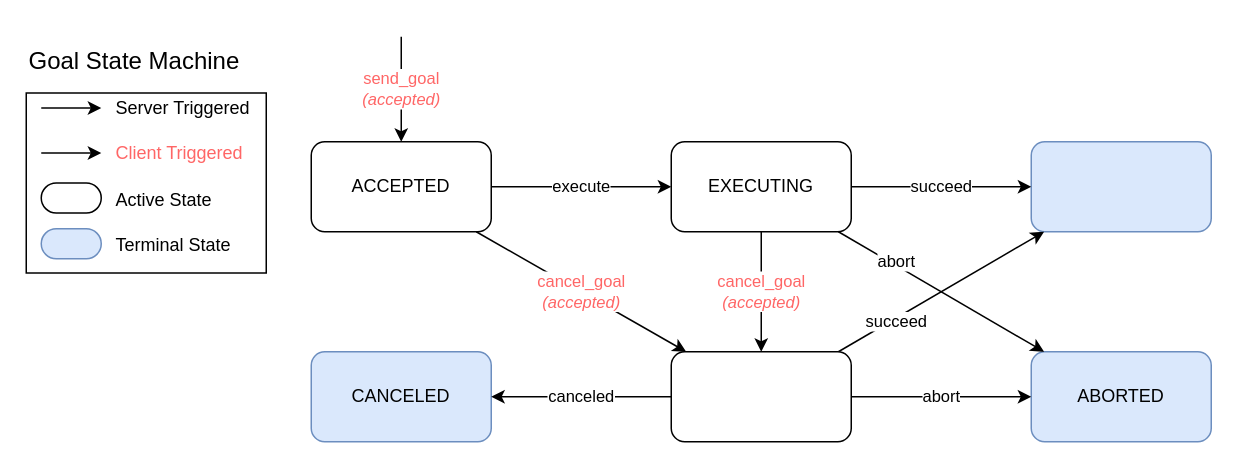
Some shapes in this 1238 by 468 pixel diagram are drawn without their labels. The shapes that lost their labels are listed below. From the top down, each one's centre as x and y in pixels, then its label:
the point at 1120,186: SUCCEEDED
the point at 760,396: CANCELING
